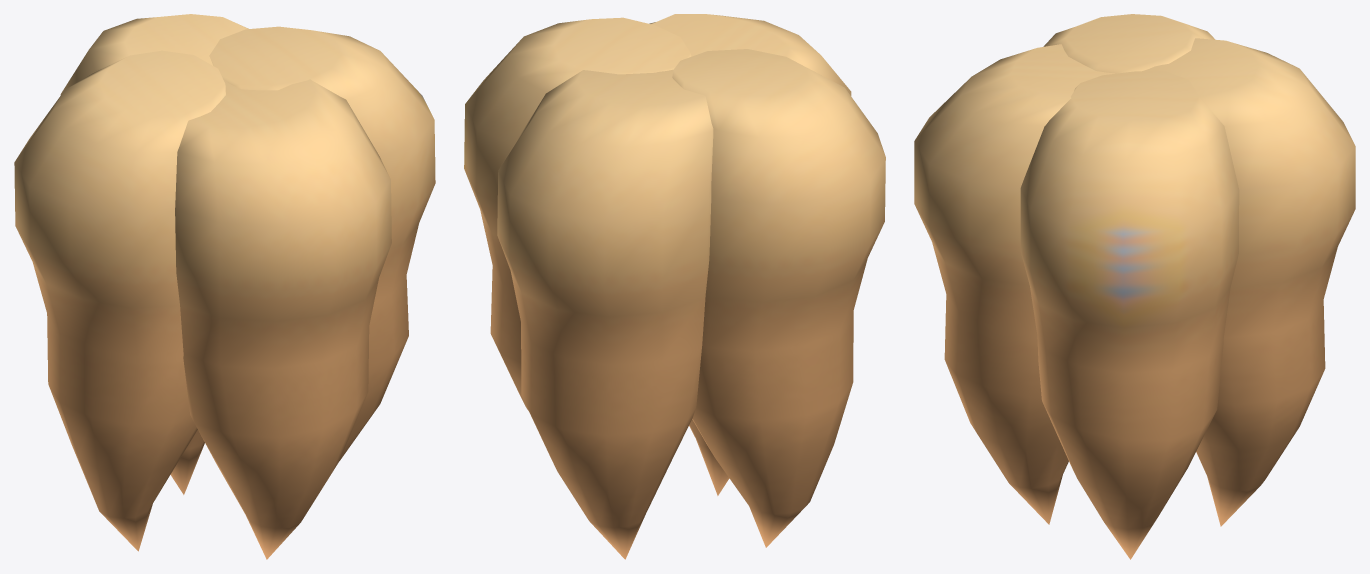
Rendered from ToothGold.fbx.
3 renders of one model, left to right at view 1: azimuth 30°, elevation 25°; view 2: azimuth 150°, elevation 25°; view 3: azimuth 270°, elevation 25°, orthographic. The views are drawn at different scales.
Parts seen in each view (by area): view 1: pCone6; view 2: pCone6; view 3: pCone6.
Boxes of the visible parts, x1,y1,x2,y2 form: pCone6: (14,14,435,559); pCone6: (464,14,885,559); pCone6: (914,14,1355,559).
Bounding box in the file's own units: 2.84 × 3.27 × 2.83.
Materials: 1 (1 with a texture image).
